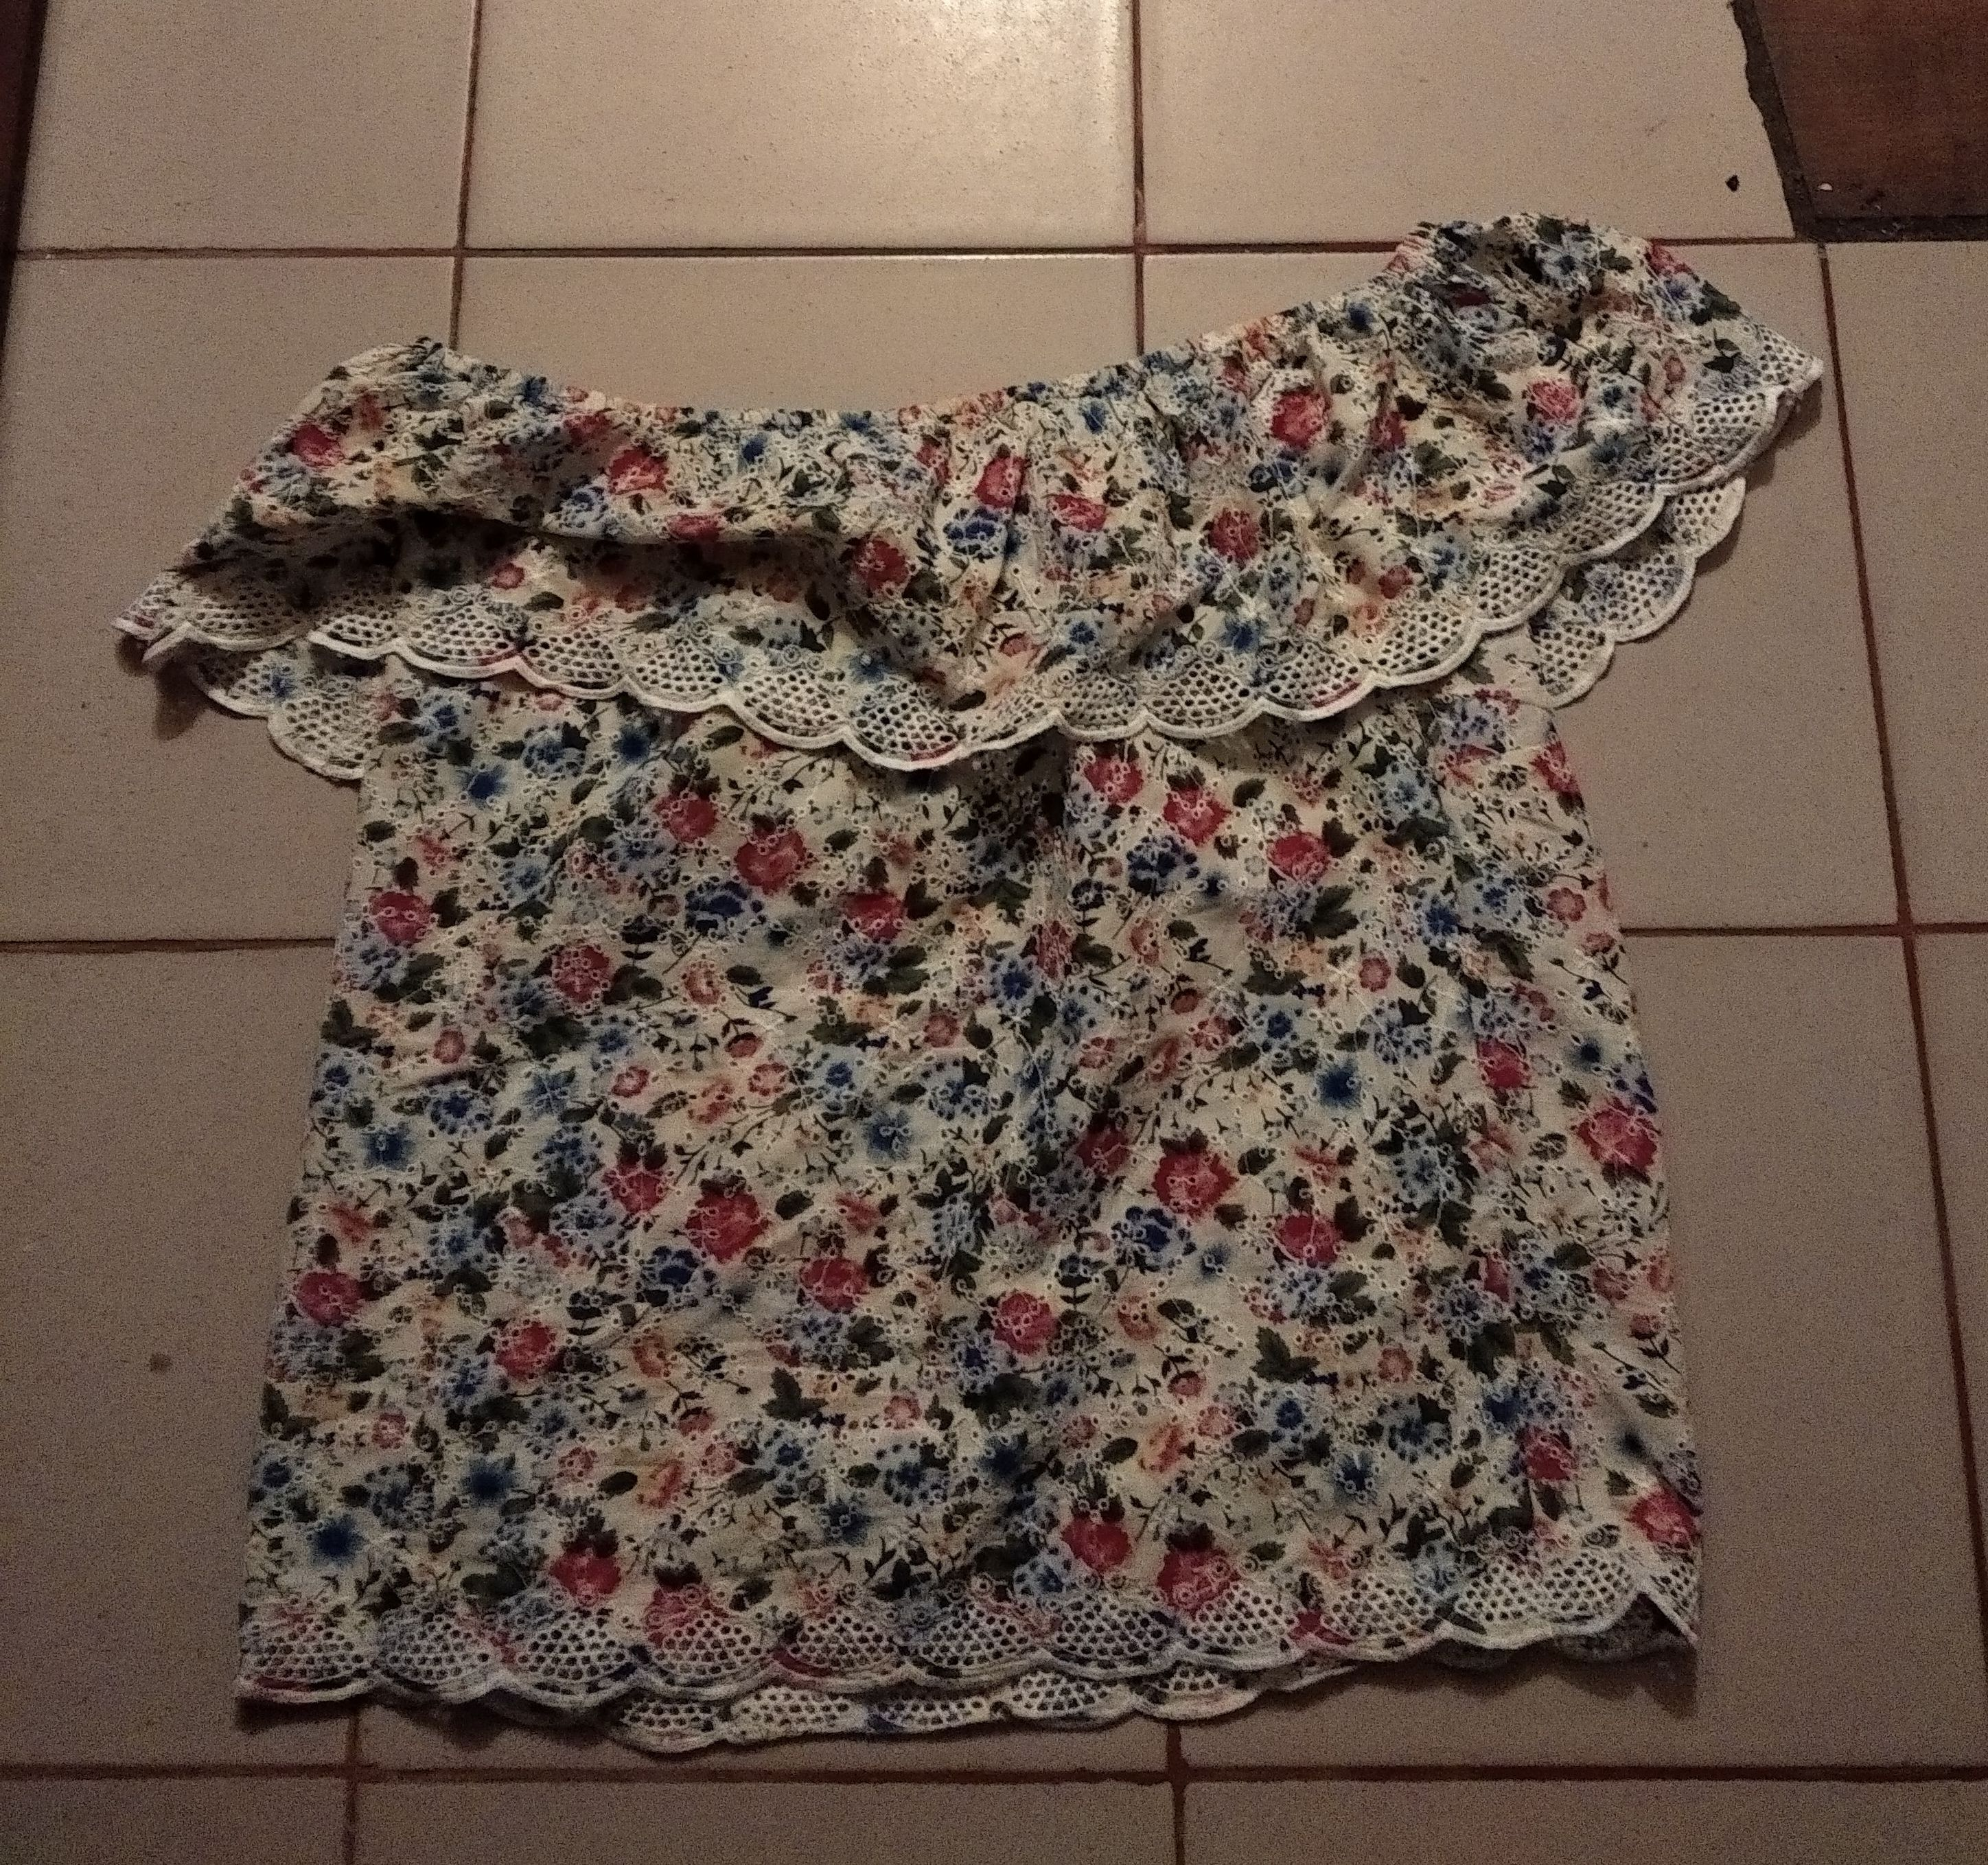clothes: (123, 184, 1816, 1756)
